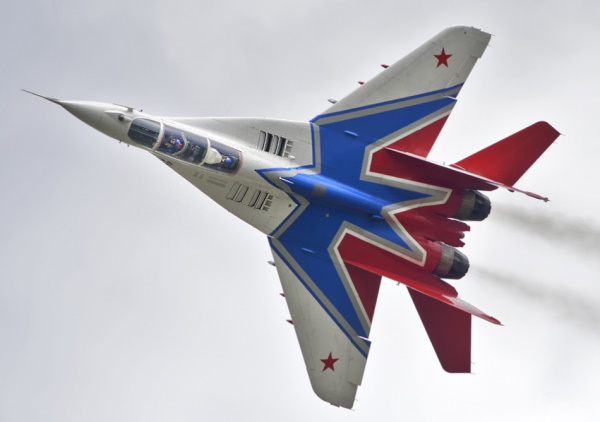Mig-29: (29, 10, 561, 400)
